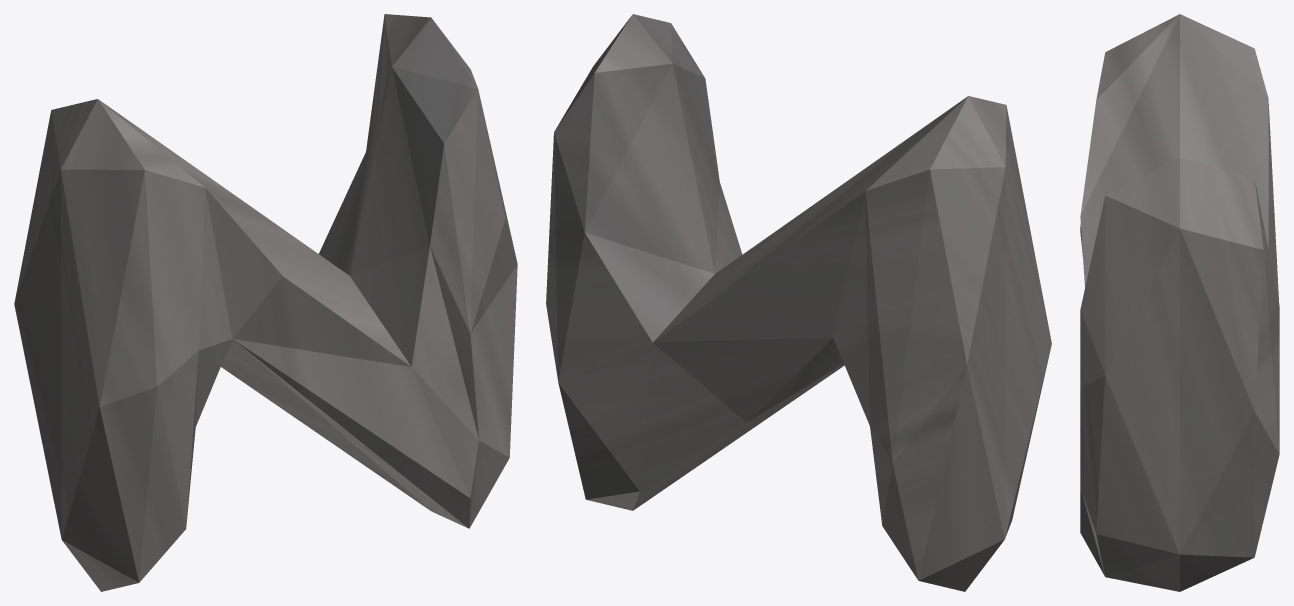
3 views of the same model, side by side, from view 1: azimuth 30°, elevation 25°; view 2: azimuth 150°, elevation 25°; view 3: azimuth 270°, elevation 25° (orthographic). The views are drawn at different scales.
Parts seen in each view (by area): view 1: N; view 2: N; view 3: N.
Part boxes in pixels (<box>): N: <box>14,14,517,591</box>; N: <box>546,14,1051,591</box>; N: <box>1080,14,1279,591</box>.
Bounding box in the file's own units: 64.05 × 72.23 × 30.
1 material, 1 textured.
